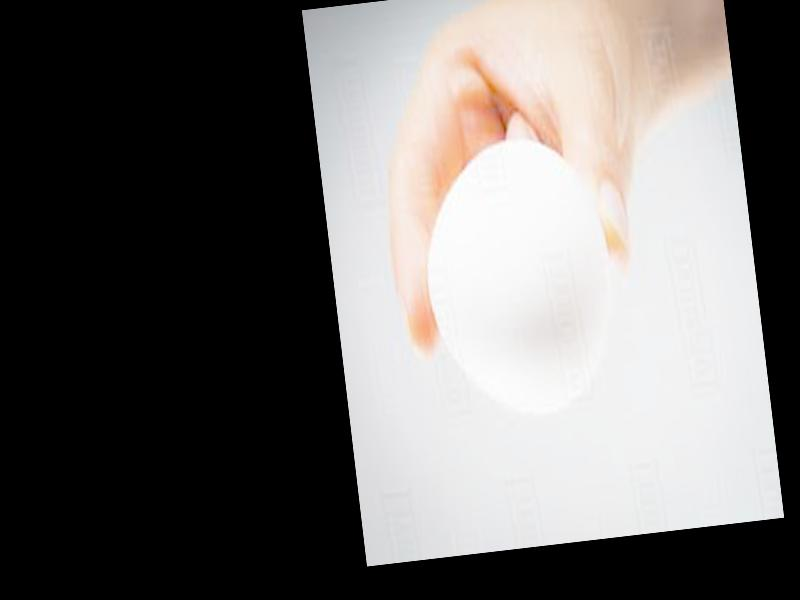Eggs: (412, 142, 624, 421)
